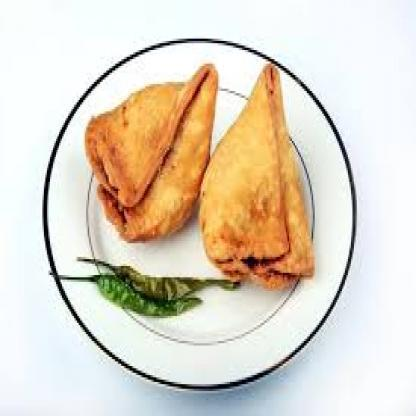samosa: (198, 64, 315, 291), (85, 63, 218, 245)
